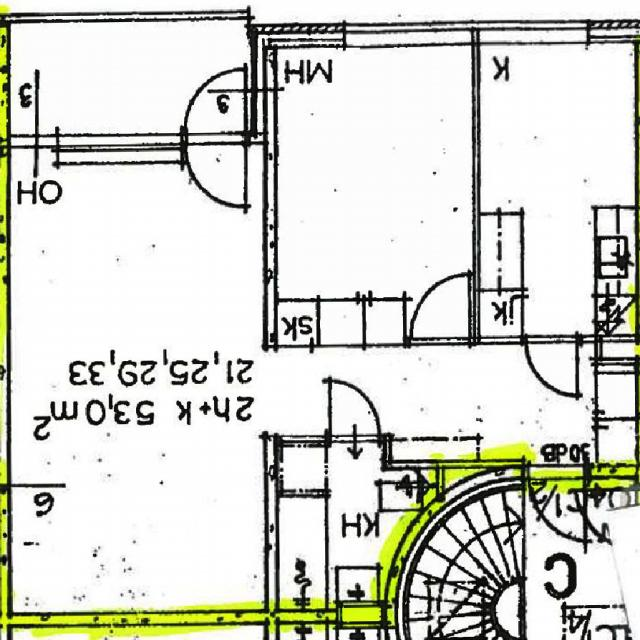door: (186, 70, 246, 148), (186, 133, 246, 211), (528, 465, 586, 540), (411, 276, 469, 346), (527, 338, 576, 399), (331, 384, 379, 443)
